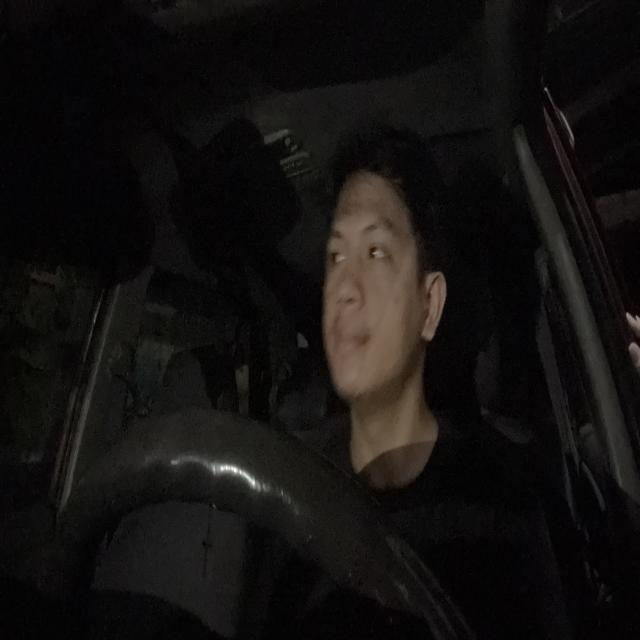open: (359, 213, 397, 277), (325, 228, 345, 282)
